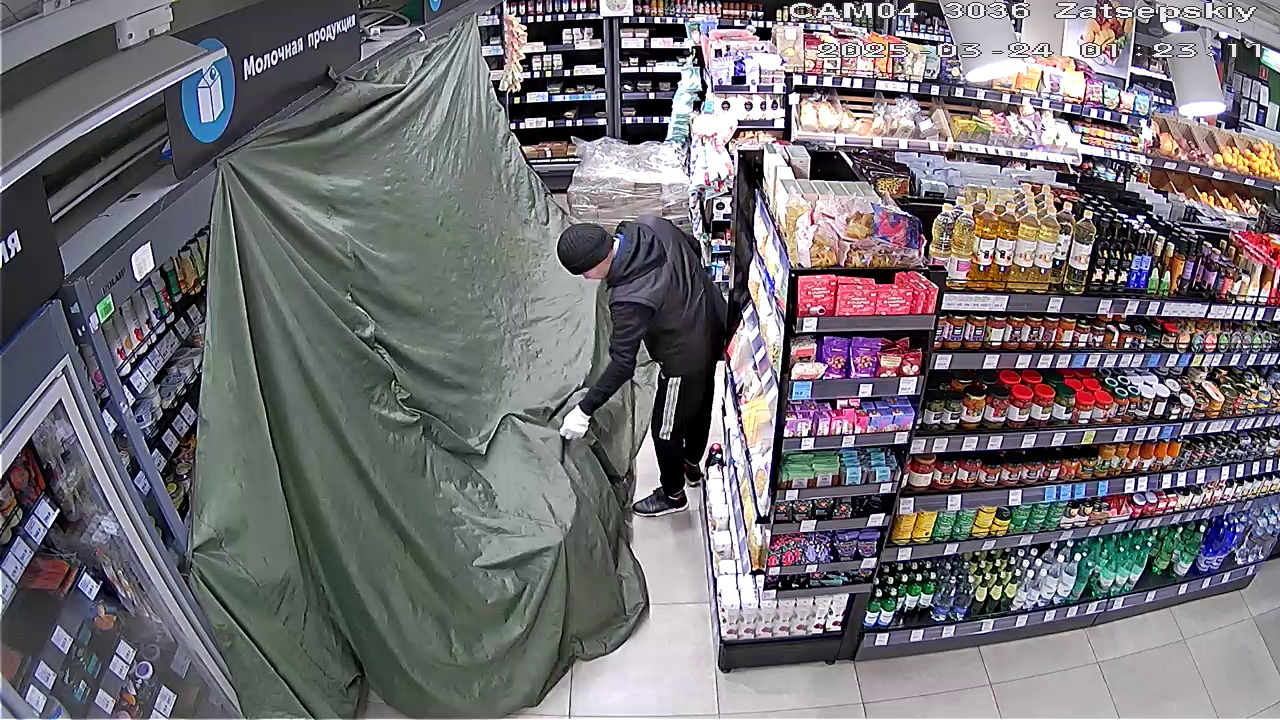Human: (535, 212, 727, 508)
dome: (197, 28, 648, 712)
pallet: (567, 124, 705, 260)
